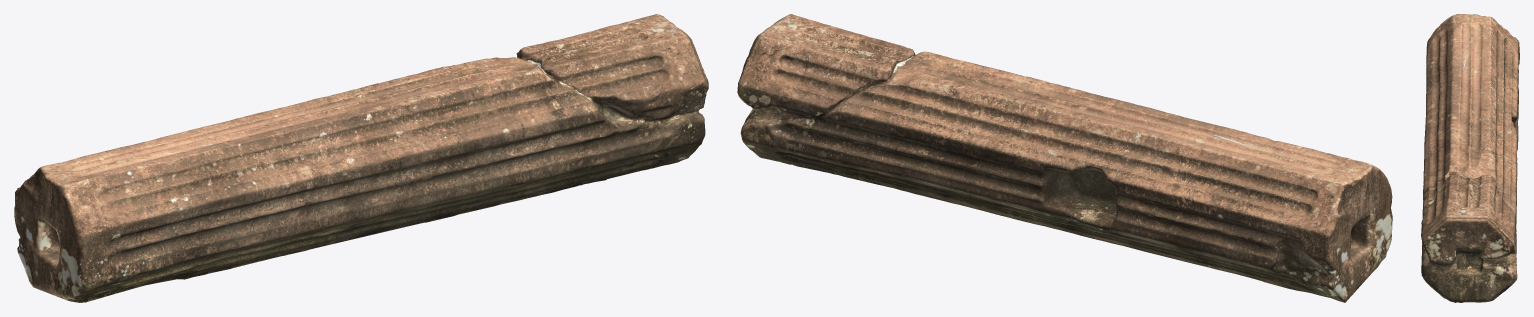
The model's file is 30_MysonSanctuaryB_Trucot_final.glb.
3 views of the same model, side by side, from view 1: azimuth 30°, elevation 25°; view 2: azimuth 150°, elevation 25°; view 3: azimuth 270°, elevation 25° (orthographic). The views are drawn at different scales.
Size of the model in its own units: 2.52 by 0.4937 by 0.5054.
1 material, 1 textured.
